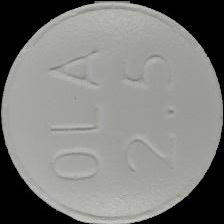50268-609: (0, 0, 224, 224)
